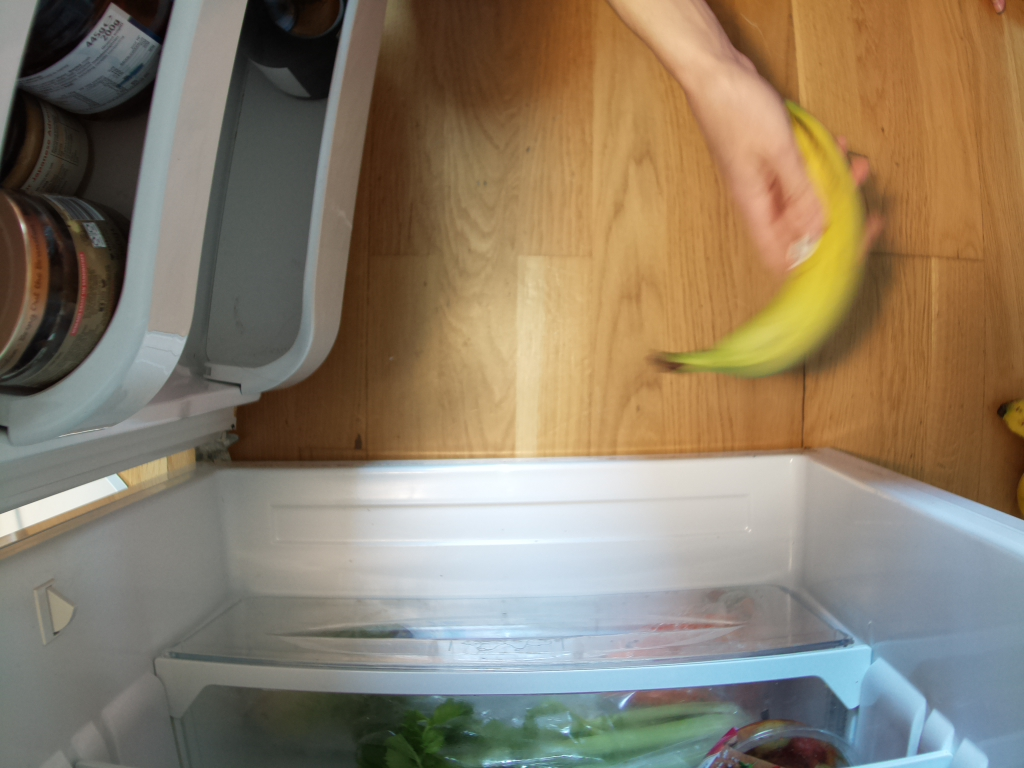banana-unripe: (636, 101, 868, 380)
